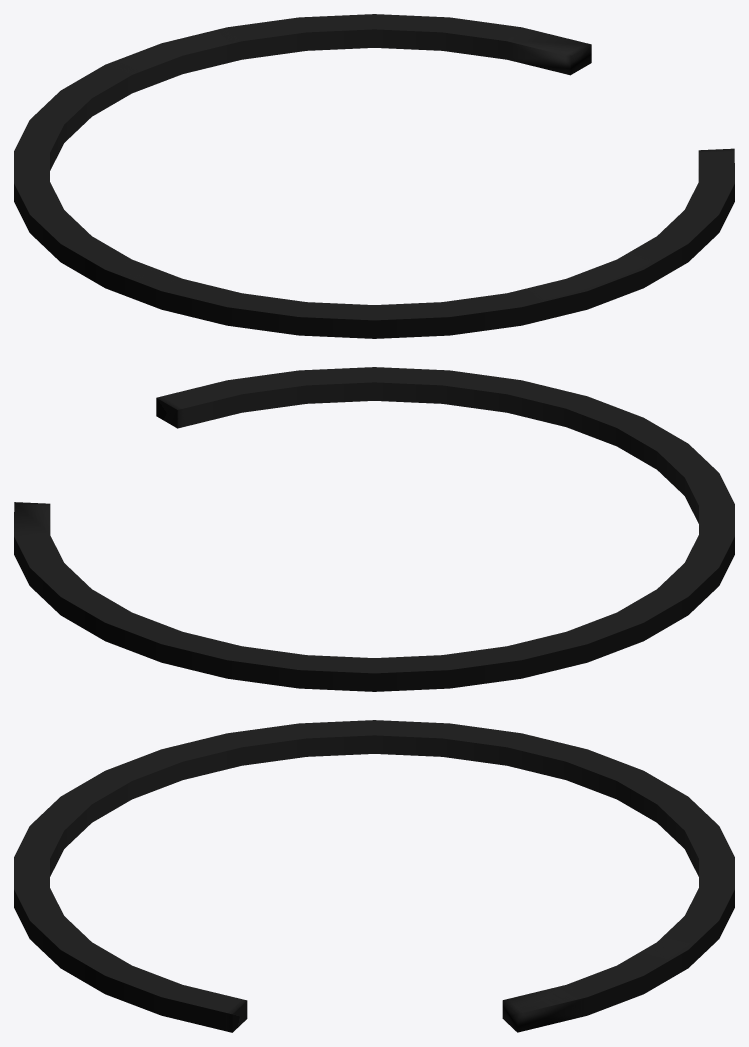
File: BarDetail.obj
3 renders of one model, top to bottom at view 1: azimuth 30°, elevation 25°; view 2: azimuth 150°, elevation 25°; view 3: azimuth 270°, elevation 25°, orthographic.
Parts seen in each view (by area): view 1: polySurface4 polySurface3; view 2: polySurface4 polySurface3; view 3: polySurface4 polySurface3.
Part boxes in pixels (x1,y1,x2,y2): polySurface4 polySurface3: (14, 14, 734, 338); polySurface4 polySurface3: (14, 367, 734, 691); polySurface4 polySurface3: (14, 720, 734, 1032).
Bounding box in the file's own units: 48.99 × 1.43 × 50.72.
Materials: 1 (1 with a texture image).
